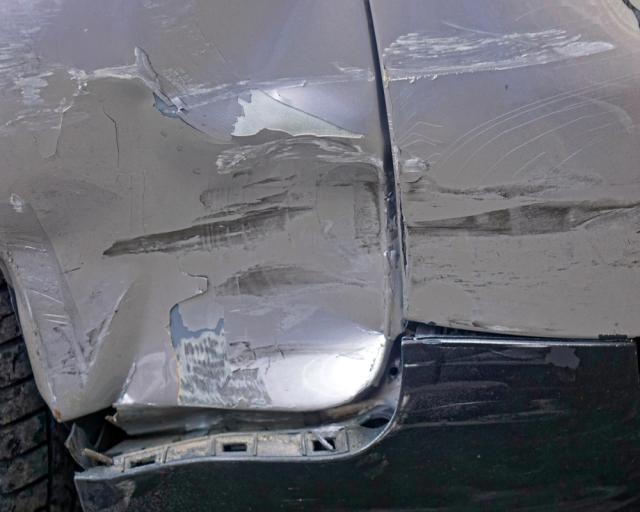dent: (0, 0, 390, 407)
scratch: (383, 0, 640, 340), (391, 337, 582, 438)
